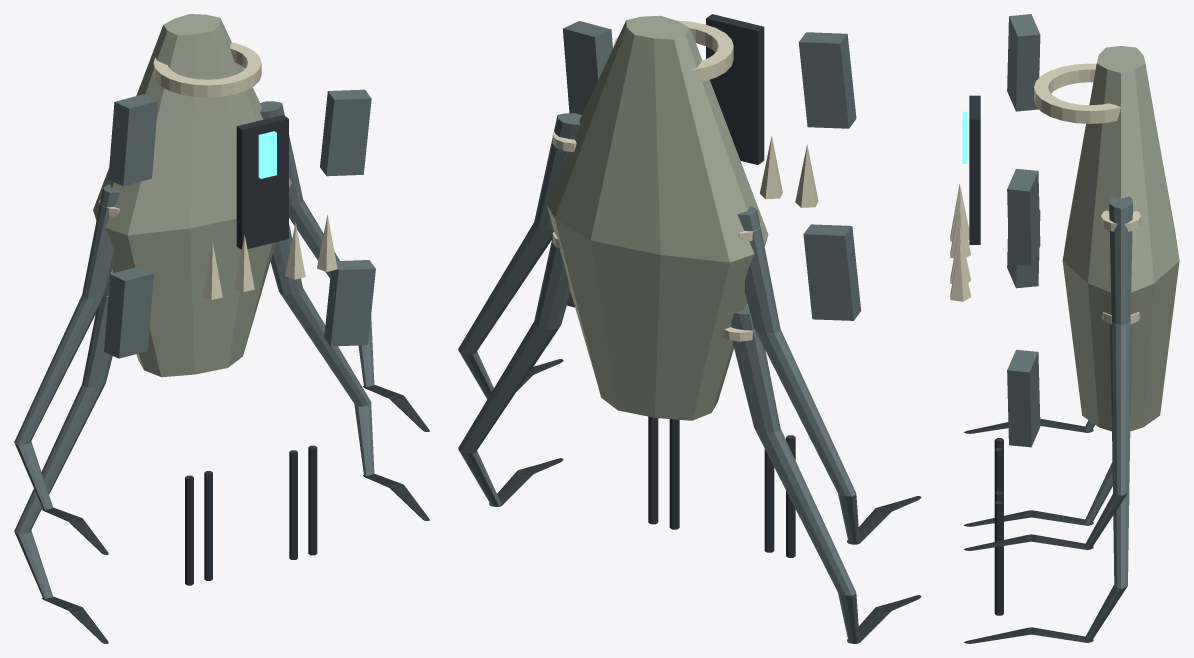
File: lintel.fbx
3 views of the same model, side by side, from view 1: azimuth 30°, elevation 25°; view 2: azimuth 150°, elevation 25°; view 3: azimuth 270°, elevation 25° (orthographic). The views are drawn at different scales.
Visible parts, largest first — view 1: folded_spindle, arm_1_skin.001, HP_lintel_face_void, arm_3_skin, arm_2_skin, HP_lintel_plate_1, HP_lintel_plate_3, HP_lintel_plate_2, HP_lintel_plate_0, blind_lintel, arm_0_skin.001, HP_lintel_hanging_3 (+12 smaller); view 2: folded_spindle, arm_3_skin, arm_1_skin.001, arm_2_skin, HP_lintel_face_void, arm_0_skin.001, HP_lintel_plate_0, HP_lintel_plate_2, HP_lintel_plate_1, blind_lintel, HP_lintel_hanging_2, HP_lintel_hanging_3 (+7 smaller); view 3: folded_spindle, arm_0_skin.001, HP_lintel_plate_1, HP_lintel_plate_3, blind_lintel, HP_lintel_plate_0, arm_2_skin, HP_lintel_face_void, HP_lintel_hanging_3, arm_0_hook.001, arm_2_hook, HP_lintel_plate_2 (+9 smaller).
Part boxes in pixels (x1,y1,x2,y2): folded_spindle: (93,14,291,377); arm_1_skin.001: (14,184,119,509); HP_lintel_face_void: (236,115,288,249); arm_3_skin: (14,272,112,598); arm_2_skin: (270,224,374,475); HP_lintel_plate_1: (320,89,371,176); HP_lintel_plate_3: (324,260,375,346); HP_lintel_plate_2: (104,266,153,358); HP_lintel_plate_0: (108,94,157,186); blind_lintel: (153,42,261,97); arm_0_skin.001: (260,101,374,386); HP_lintel_hanging_3: (308,445,317,555); folded_spindle: (546,15,768,420); arm_3_skin: (731,304,859,642); arm_1_skin.001: (738,206,859,543); arm_2_skin: (458,238,570,505); HP_lintel_face_void: (706,14,764,164); arm_0_skin.001: (458,113,581,399); HP_lintel_plate_0: (798,32,856,128); HP_lintel_plate_2: (803,224,861,320); HP_lintel_plate_1: (563,21,612,114); blind_lintel: (613,20,733,81); HP_lintel_hanging_2: (669,419,679,529); HP_lintel_hanging_3: (648,416,658,524); folded_spindle: (1062,46,1179,431); arm_0_skin.001: (1084,196,1132,549); HP_lintel_plate_1: (1007,168,1040,266); HP_lintel_plate_3: (1007,349,1040,447); blind_lintel: (1034,63,1120,123); HP_lintel_plate_0: (1007,14,1040,111); arm_2_skin: (1084,324,1132,642); HP_lintel_face_void: (969,95,980,244); HP_lintel_hanging_3: (994,501,1003,615); arm_0_hook.001: (964,534,1093,550); arm_2_hook: (964,627,1093,643); HP_lintel_plate_2: (1007,209,1040,288).
Size of the model in its own units: 167 by 236 by 89.47.
